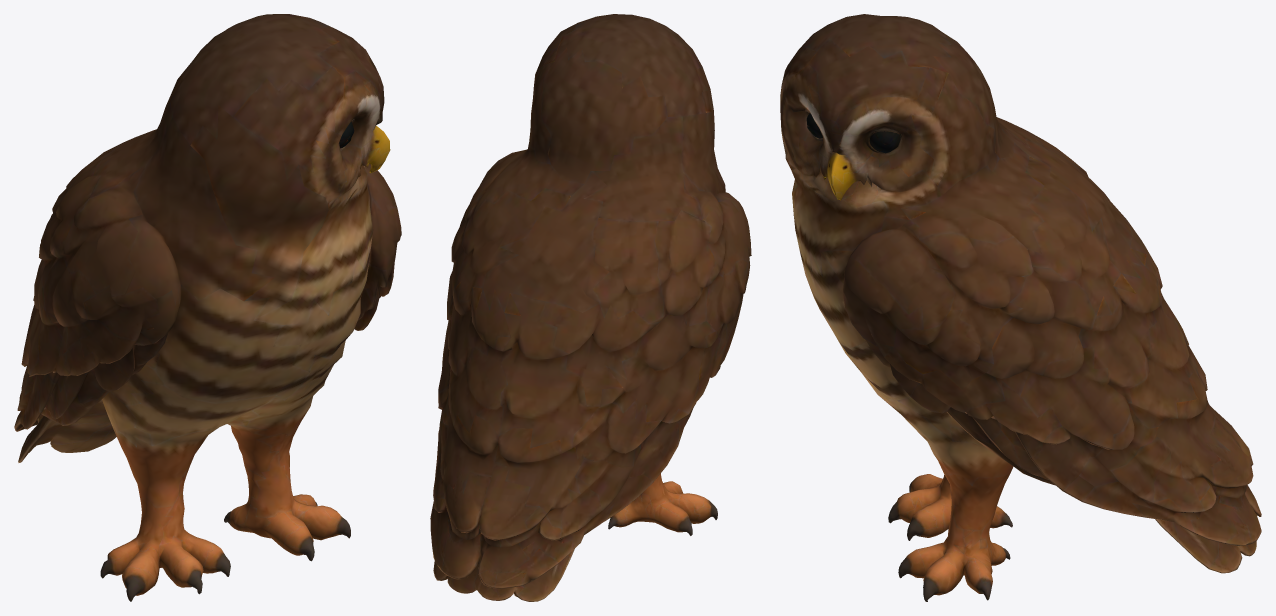
The model's file is owl-rufouslegged.glb.
The picture shows the model from 3 angles, left to right: view 1: azimuth 30°, elevation 25°; view 2: azimuth 150°, elevation 25°; view 3: azimuth 270°, elevation 25°; orthographic projection. The views are drawn at different scales.
Parts seen in each view (by area): view 1: geometry_0; view 2: geometry_0; view 3: geometry_0.
Part boxes in pixels (x1,y1,x2,y2): geometry_0: (14, 14, 401, 601); geometry_0: (430, 14, 751, 601); geometry_0: (780, 14, 1261, 601).
Size of the model in its own units: 0.5708 by 0.9517 by 0.7705.
Materials: 1 (1 with a texture image).
